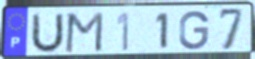1: (153, 11, 170, 50), (116, 11, 131, 53)
7: (217, 7, 245, 52)
G: (177, 10, 211, 51)
M: (63, 10, 106, 54)
U: (29, 11, 66, 55)
